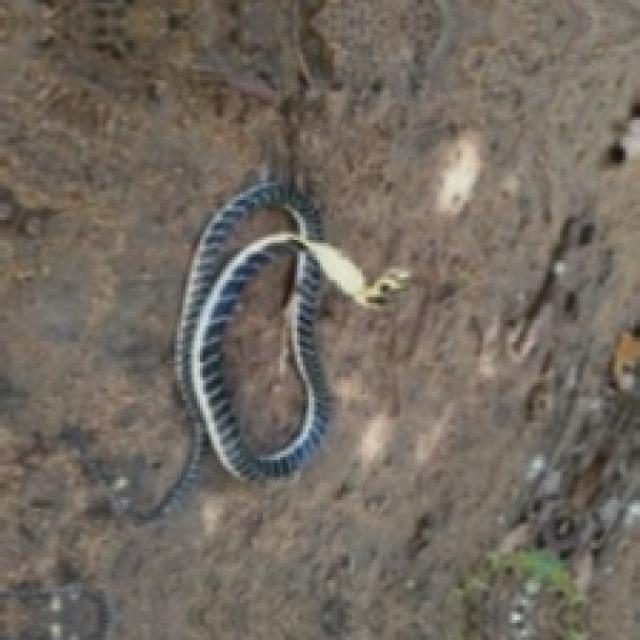king cobra: (86, 180, 406, 517)
